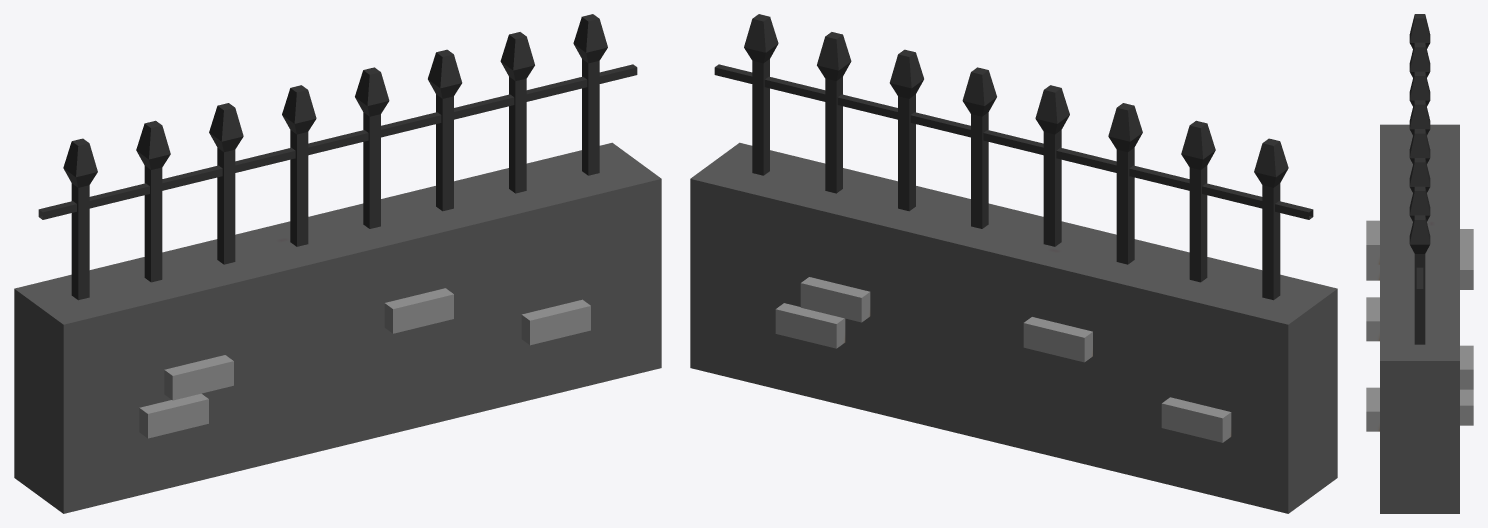
File: Fence.fbx
The picture shows the model from 3 angles, left to right: view 1: azimuth 30°, elevation 25°; view 2: azimuth 150°, elevation 25°; view 3: azimuth 270°, elevation 25°; orthographic projection. The views are drawn at different scales.
Visible parts, largest first — view 1: Fence; view 2: Fence; view 3: Fence.
Boxes of the visible parts, left/top/right/bottom form: Fence: left=14, top=14, right=661, bottom=513; Fence: left=690, top=14, right=1337, bottom=513; Fence: left=1366, top=14, right=1473, bottom=513.
Bounding box in the file's own units: 2 × 1.1 × 0.3842.
